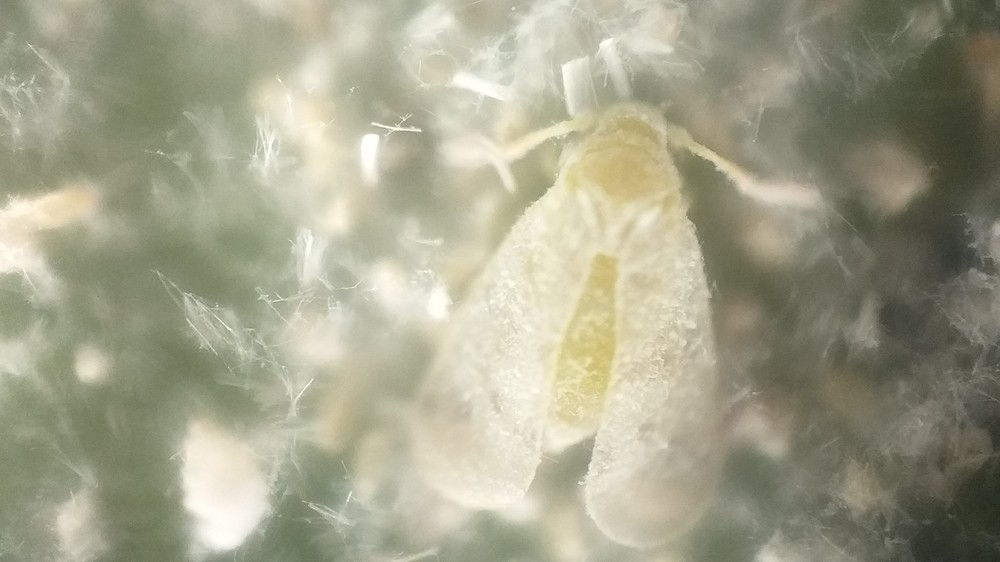Mosca Blanca: (390, 86, 853, 551)
